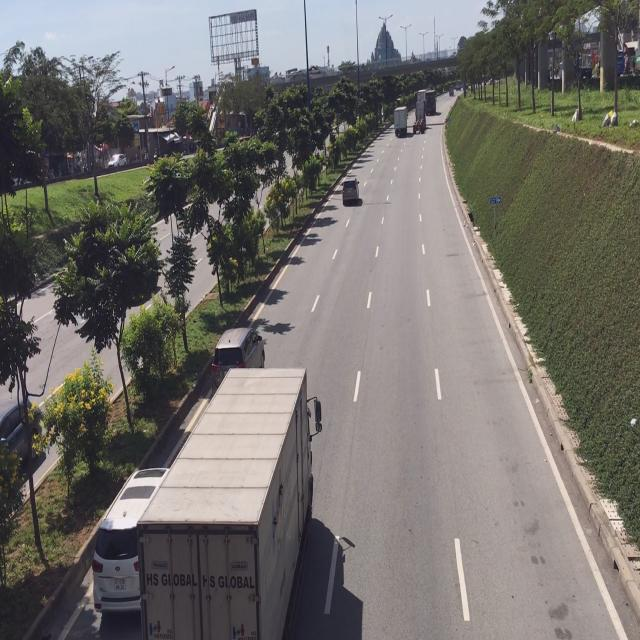car: (91, 468, 166, 605), (211, 328, 264, 381), (341, 175, 361, 208)
truck: (141, 368, 317, 636), (394, 107, 408, 138)
